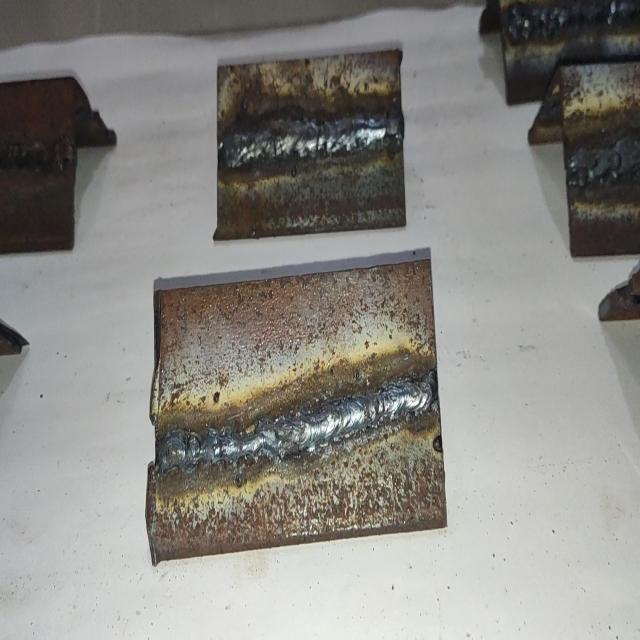Bad Weld: (158, 375, 433, 477), (504, 0, 640, 43), (0, 136, 72, 170)
Defect: (161, 420, 296, 470), (506, 0, 640, 42), (0, 138, 76, 175)
Good Weld: (222, 108, 400, 168), (567, 135, 640, 184)
